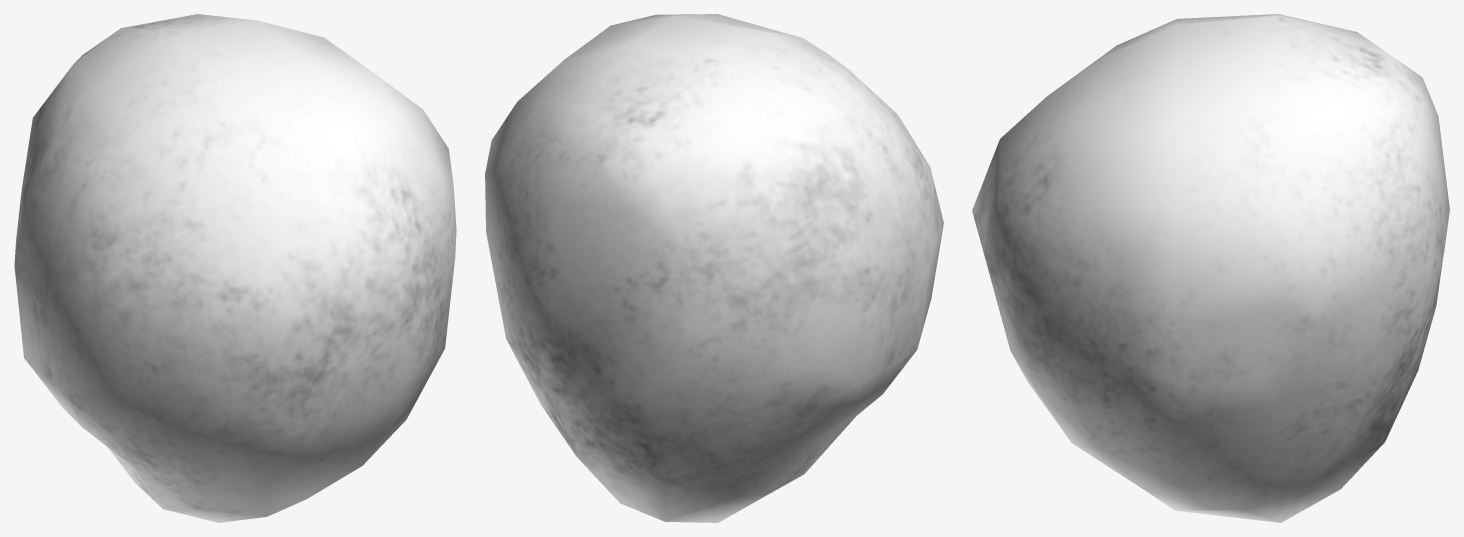
Rendered from SM_RefinedMetal_1b.fbx.
The picture shows the model from 3 angles, left to right: view 1: azimuth 30°, elevation 25°; view 2: azimuth 150°, elevation 25°; view 3: azimuth 270°, elevation 25°; orthographic projection.
Visible parts, largest first — view 1: RefinedMetal_1b; view 2: RefinedMetal_1b; view 3: RefinedMetal_1b.
Boxes of the visible parts, x1,y1,x2,y2 form: RefinedMetal_1b: [14, 14, 456, 522]; RefinedMetal_1b: [485, 14, 943, 522]; RefinedMetal_1b: [972, 14, 1449, 522].
Bounding box in the file's own units: 0.4183 × 0.4657 × 0.4361.
